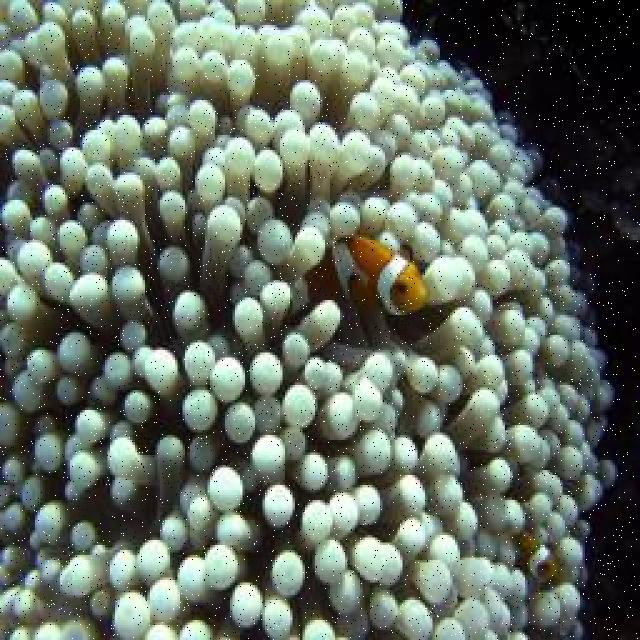fish: (304, 232, 430, 313), (508, 529, 562, 584)
reefs: (0, 0, 618, 638)
